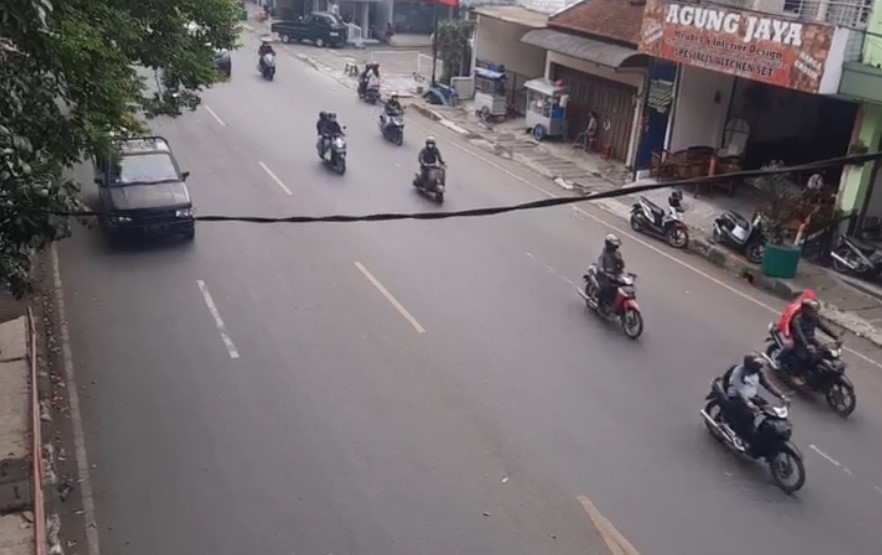mobil: (88, 129, 195, 241)
motor: (698, 352, 812, 491), (766, 291, 862, 413), (582, 230, 647, 341), (313, 108, 348, 181), (412, 137, 446, 201), (377, 98, 411, 141)
